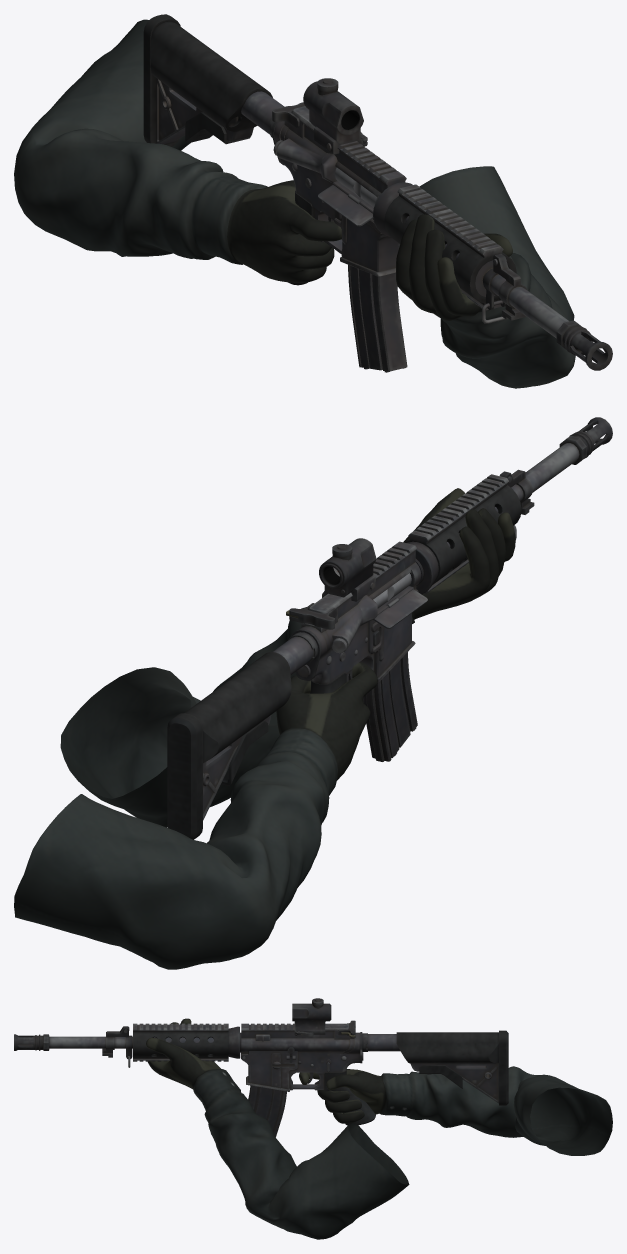
Rendered from carbine_000005.obj.
3 views of the same model, one above another, from view 1: azimuth 30°, elevation 25°; view 2: azimuth 150°, elevation 25°; view 3: azimuth 270°, elevation 25° (orthographic). The views are drawn at different scales.
Parts seen in each view (by area): view 1: armmesh_arms_0, base_carbine_0, clip_carbine_0, scope_carbine_0, lid_carbine_0, bolt_carbine_0; view 2: armmesh_arms_0, base_carbine_0, clip_carbine_0, scope_carbine_0, lid_carbine_0, handle_carbine_0; view 3: armmesh_arms_0, base_carbine_0, scope_carbine_0, clip_carbine_0.
Boxes of the visible parts, left/top/right/bottom form: armmesh_arms_0: left=14, top=19, right=575, bottom=388; base_carbine_0: left=143, top=14, right=612, bottom=370; clip_carbine_0: left=348, top=265, right=407, bottom=372; scope_carbine_0: left=303, top=78, right=367, bottom=154; lid_carbine_0: left=318, top=185, right=373, bottom=226; bolt_carbine_0: left=335, top=167, right=376, bottom=207; armmesh_arms_0: left=14, top=488, right=515, bottom=969; base_carbine_0: left=167, top=417, right=612, bottom=839; clip_carbine_0: left=363, top=652, right=417, bottom=761; scope_carbine_0: left=319, top=538, right=376, bottom=601; lid_carbine_0: left=373, top=589, right=427, bottom=628; handle_carbine_0: left=289, top=603, right=337, bottom=629; armmesh_arms_0: left=146, top=1018, right=612, bottom=1239; base_carbine_0: left=14, top=1023, right=508, bottom=1125; scope_carbine_0: left=292, top=998, right=331, bottom=1036; clip_carbine_0: left=248, top=1085, right=286, bottom=1137.
Size of the model in its own units: 45.32 by 41.78 by 122.
3 materials, 3 textured.
